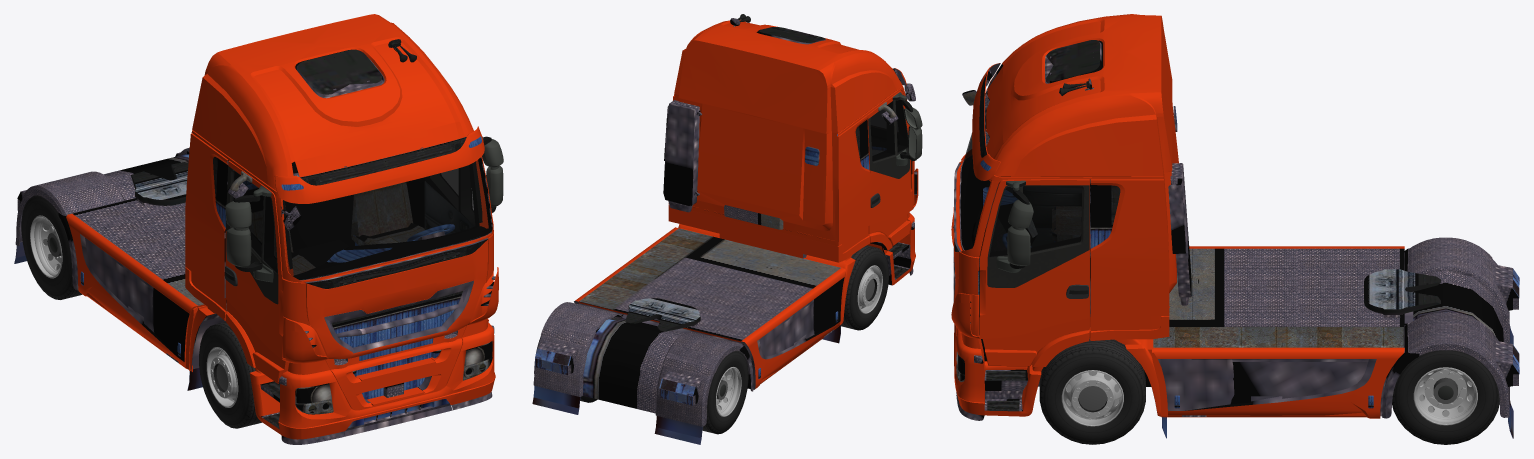
File: Truck_1.FBX
3 views of the same model, side by side, from view 1: azimuth 30°, elevation 25°; view 2: azimuth 150°, elevation 25°; view 3: azimuth 270°, elevation 25° (orthographic). The views are drawn at different scales.
Parts seen in each view (by area): view 1: Body, Door_R, Door_L, Wheel_FR, Wheel_BR; view 2: Body, Door_R, Wheel_FR, Wheel_BR; view 3: Body, Door_L, Wheel_FL, Wheel_BL, Door_R.
Boxes of the visible parts, <box> form: Body: <box>14,14,498,444</box>; Door_R: <box>224,160,293,383</box>; Door_L: <box>424,136,503,322</box>; Wheel_FR: <box>199,322,261,428</box>; Wheel_BR: <box>21,195,82,299</box>; Body: <box>532,14,918,444</box>; Door_R: <box>867,90,922,245</box>; Wheel_FR: <box>841,245,888,330</box>; Wheel_BR: <box>702,350,748,434</box>; Body: <box>951,14,1519,438</box>; Door_L: <box>980,179,1090,366</box>; Wheel_FL: <box>1039,338,1145,444</box>; Wheel_BL: <box>1392,350,1499,444</box>; Door_R: <box>986,129,1081,246</box>.
Bounding box in the file's own units: 116 × 140 × 209.
